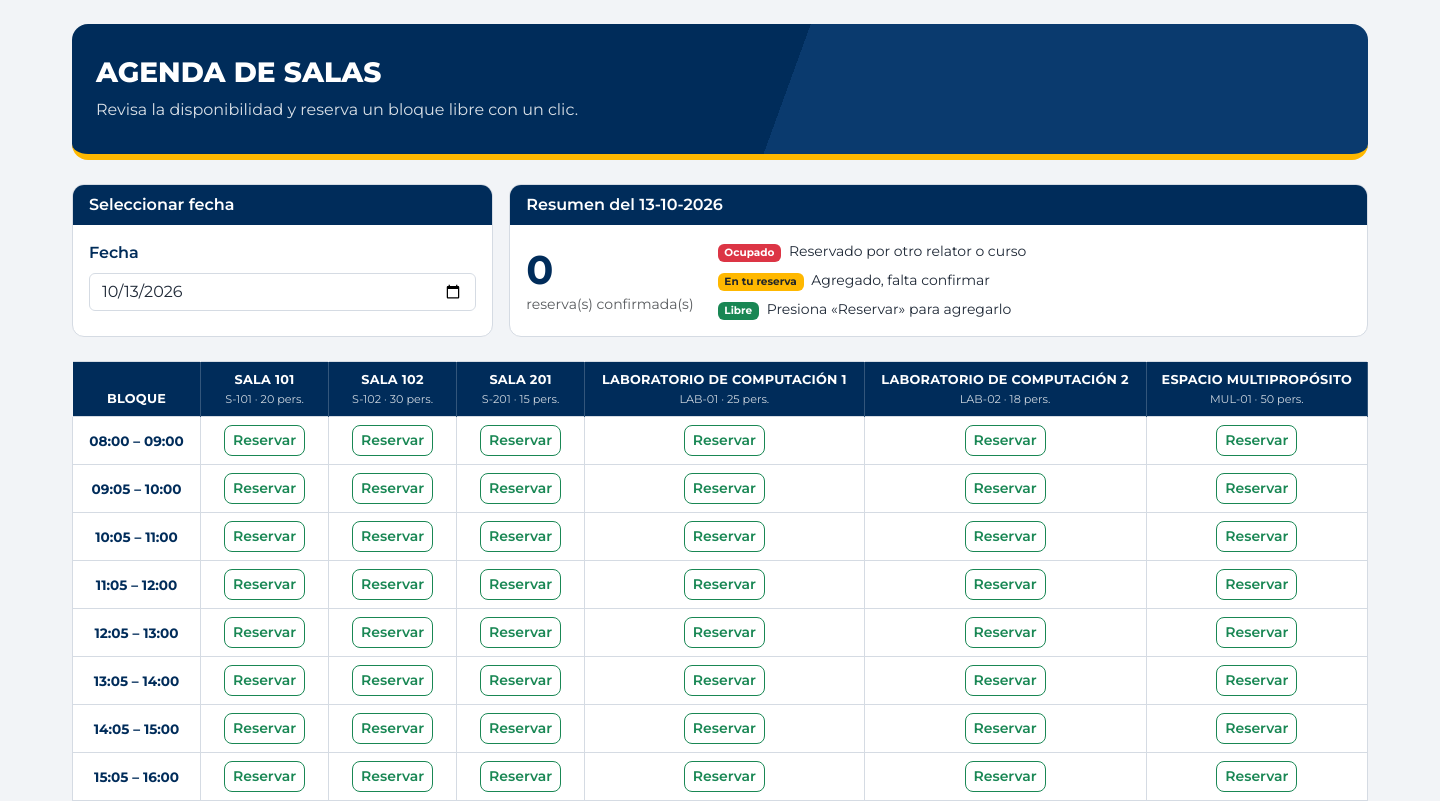
Test: Página Agenda › al cambiar la fecha, pide las reservas de ese día y las muestra
Type "2026-10-14" into the date field labelled "Fecha" at (283, 292), box [89,273,476,311]
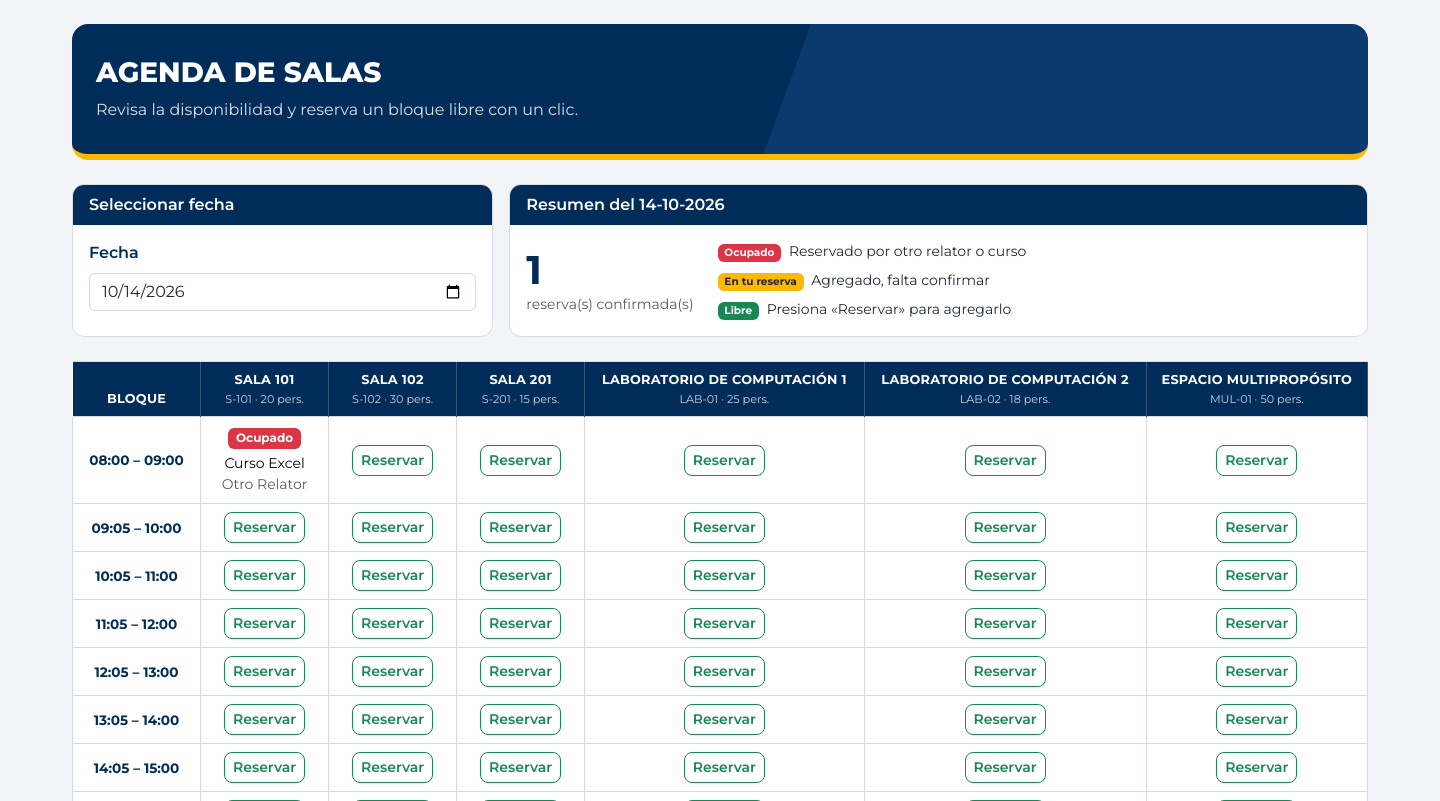
Now the text "Ocupado" below "S-101" is shown, box [236,430,293,446]
Now the text "Curso Excel" is shown, box [224,454,305,472]
